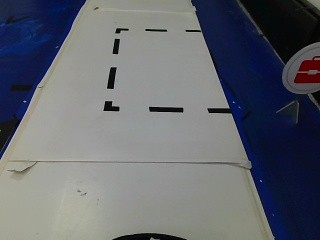company: (280, 45, 318, 97)
